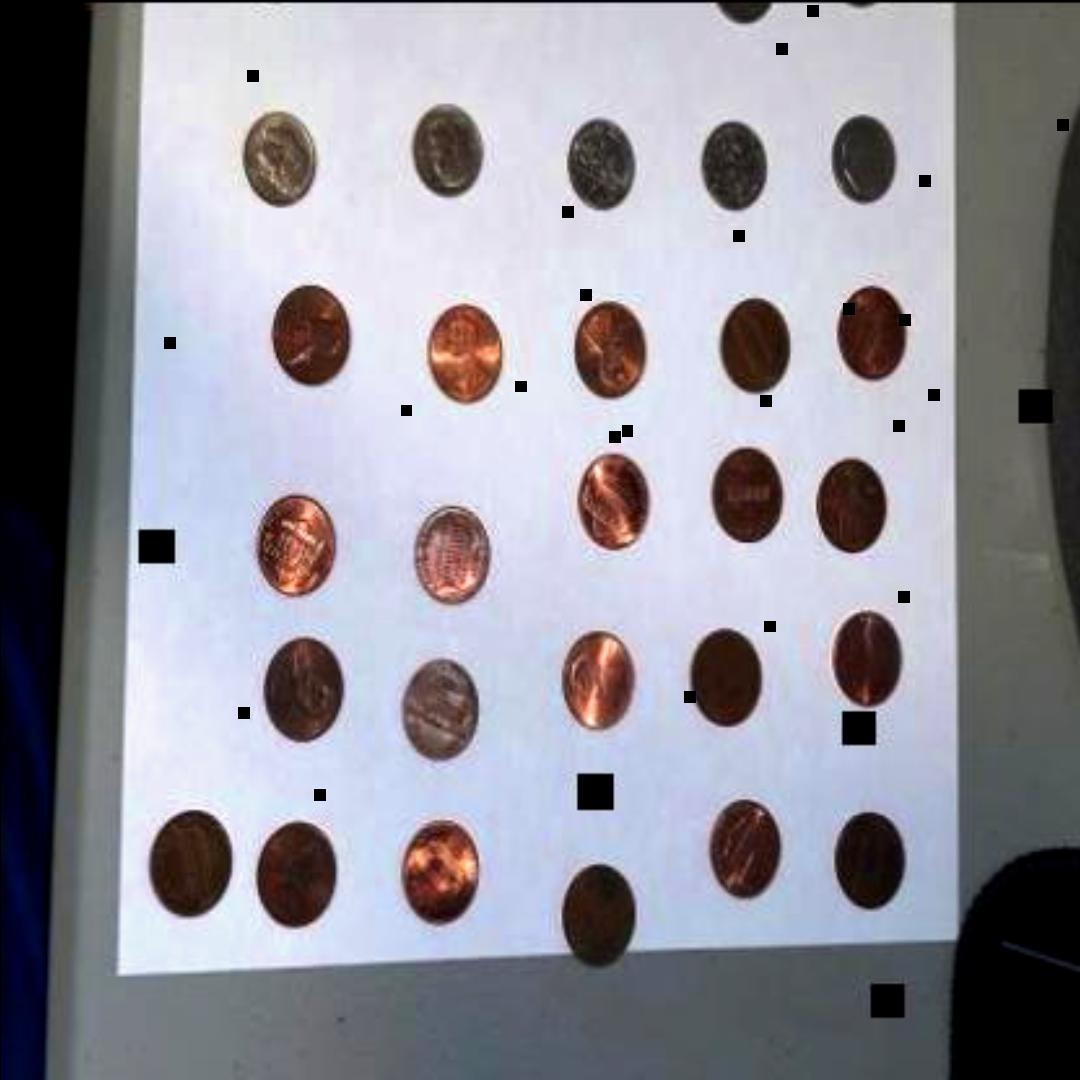Dime: (231, 109, 319, 207), (556, 115, 634, 213), (692, 119, 769, 212), (407, 102, 479, 196), (826, 116, 893, 198)
Penny: (140, 798, 236, 917), (248, 816, 342, 934), (392, 649, 480, 763), (554, 624, 636, 742), (702, 438, 786, 548), (260, 632, 342, 741), (252, 486, 334, 595), (556, 858, 634, 972), (394, 814, 476, 922), (265, 283, 353, 381), (418, 296, 502, 398), (404, 499, 486, 602), (810, 450, 888, 558), (570, 297, 647, 400), (687, 620, 759, 730), (714, 292, 791, 394), (703, 791, 775, 900), (832, 281, 908, 379), (831, 808, 903, 910), (825, 604, 897, 702), (575, 452, 647, 550)
